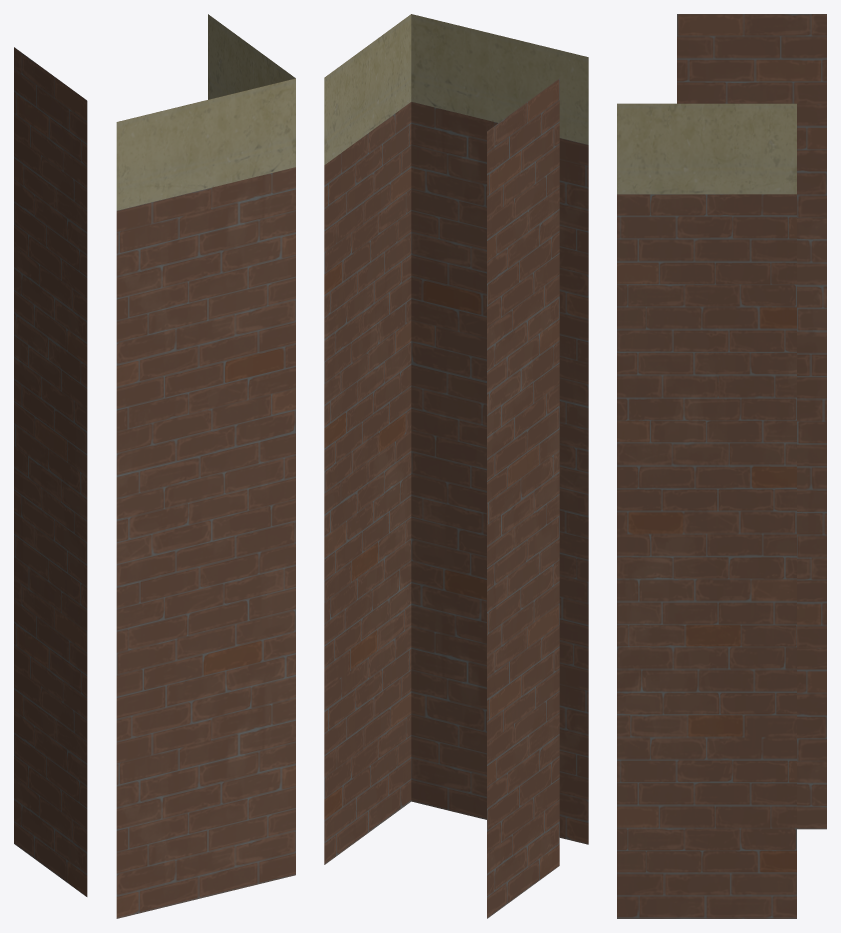
The model's file is Brick_TopTrim_90Angle_L.gltf.
3 renders of one model, left to right at view 1: azimuth 30°, elevation 25°; view 2: azimuth 150°, elevation 25°; view 3: azimuth 270°, elevation 25°, orthographic. The views are drawn at different scales.
Visible parts, largest first — view 1: Brick_TopTrim_90Angle_L; view 2: Brick_TopTrim_90Angle_L; view 3: Brick_TopTrim_90Angle_L.
Part boxes in pixels (bbox=[...]): Brick_TopTrim_90Angle_L: bbox=[14, 14, 295, 918]; Brick_TopTrim_90Angle_L: bbox=[324, 14, 588, 918]; Brick_TopTrim_90Angle_L: bbox=[617, 14, 826, 918].
Bounding box in the file's own units: 0.7062 × 3 × 0.7.
Materials: 3 (3 with a texture image).
